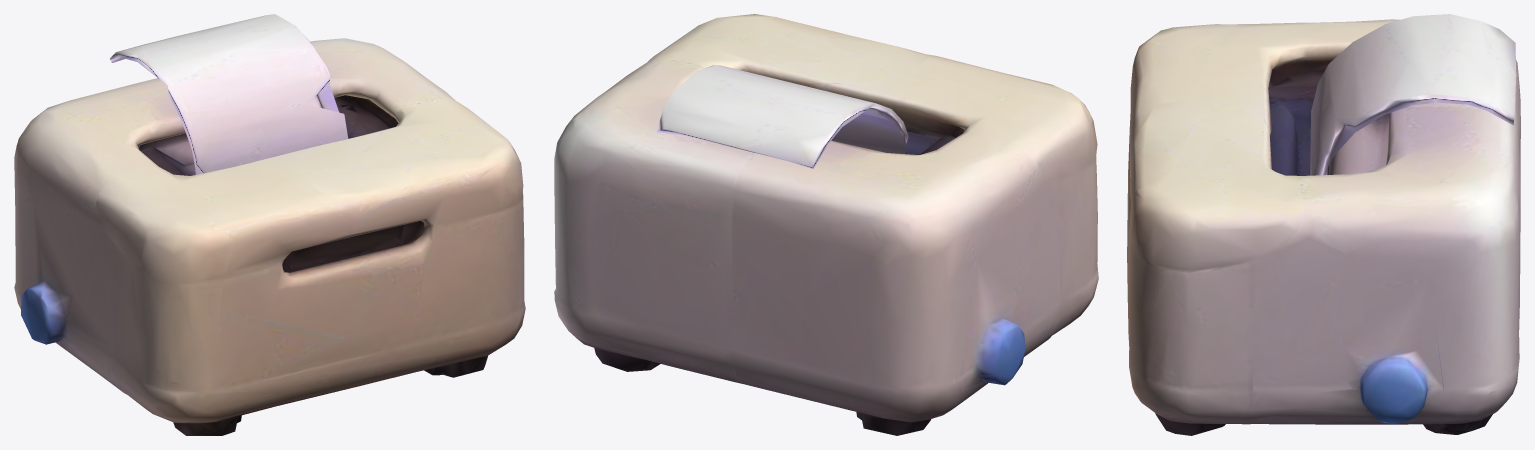
File: printer.glb
The picture shows the model from 3 angles, left to right: view 1: azimuth 30°, elevation 25°; view 2: azimuth 150°, elevation 25°; view 3: azimuth 270°, elevation 25°; orthographic projection. The views are drawn at different scales.
Parts seen in each view (by area): view 1: tripo_node_13e1302a-b90d-412b-885a-339b0daa4967; view 2: tripo_node_13e1302a-b90d-412b-885a-339b0daa4967; view 3: tripo_node_13e1302a-b90d-412b-885a-339b0daa4967.
Boxes of the visible parts, x1,y1,x2,y2 form: tripo_node_13e1302a-b90d-412b-885a-339b0daa4967: [14, 14, 525, 435]; tripo_node_13e1302a-b90d-412b-885a-339b0daa4967: [554, 14, 1098, 435]; tripo_node_13e1302a-b90d-412b-885a-339b0daa4967: [1127, 14, 1520, 435].
Size of the model in its own units: 1 by 0.6313 by 0.749.
1 material, 1 textured.
